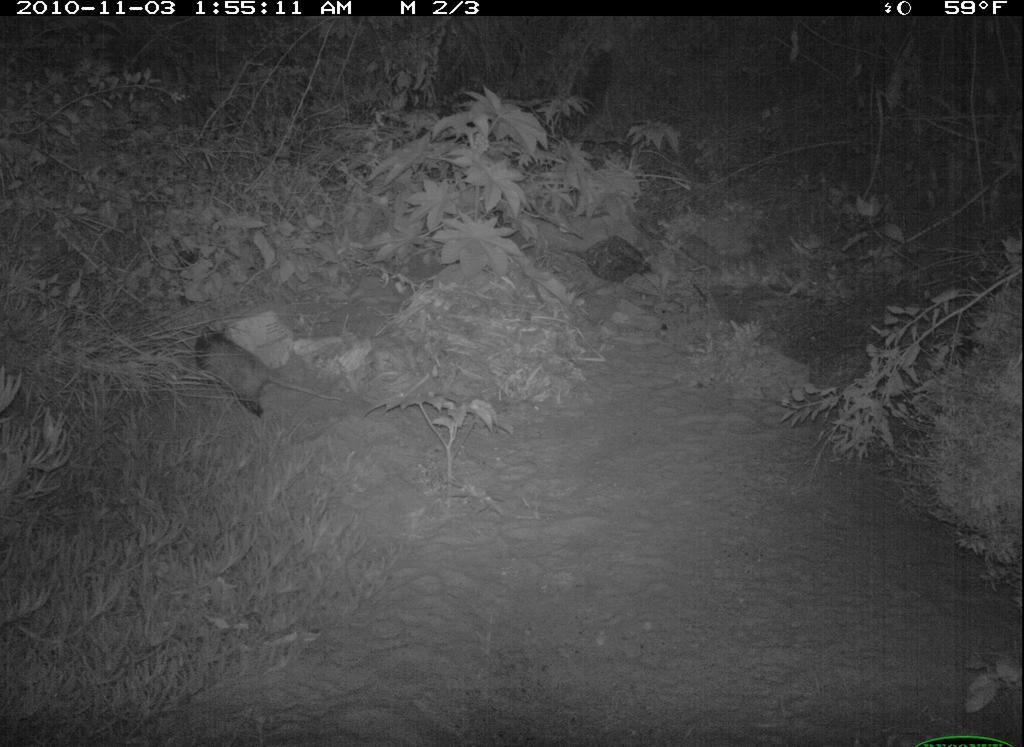opossum: (187, 321, 342, 427)
